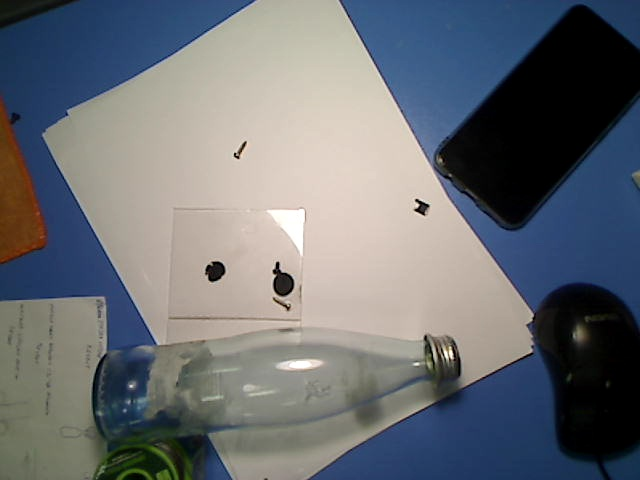bottle: (89, 327, 465, 445)
